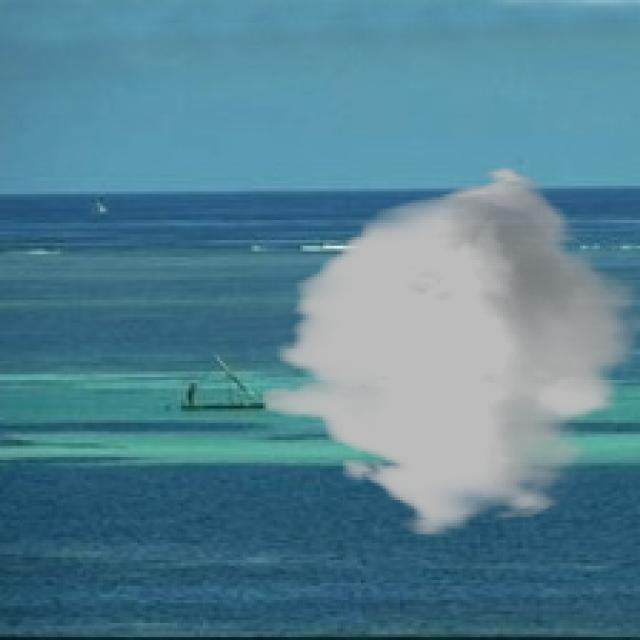smoke: (263, 166, 637, 540)
